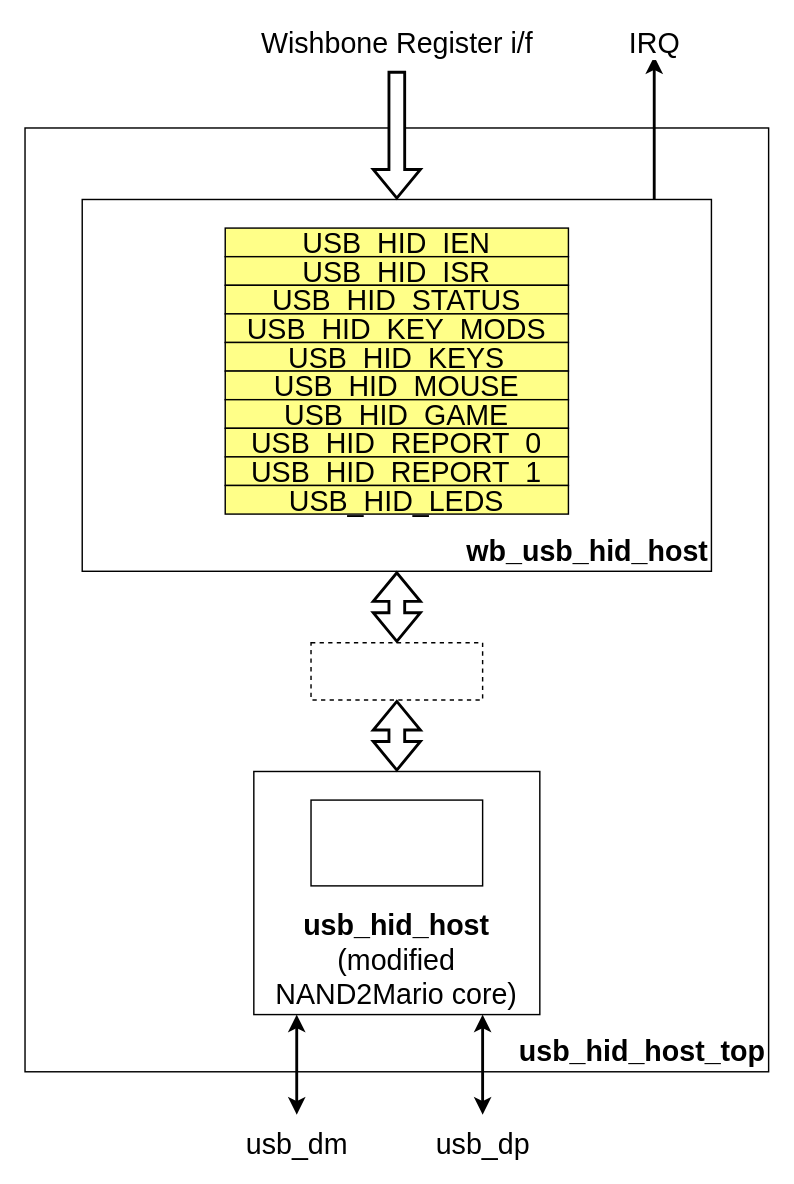
This 794x1184 diagram has some shape labels left out. The centre of each missing label's shape, as x and y in pixels:
"CDC logic" belongs at point 396,670.
"UKP Processor" belongs at point 396,842.
